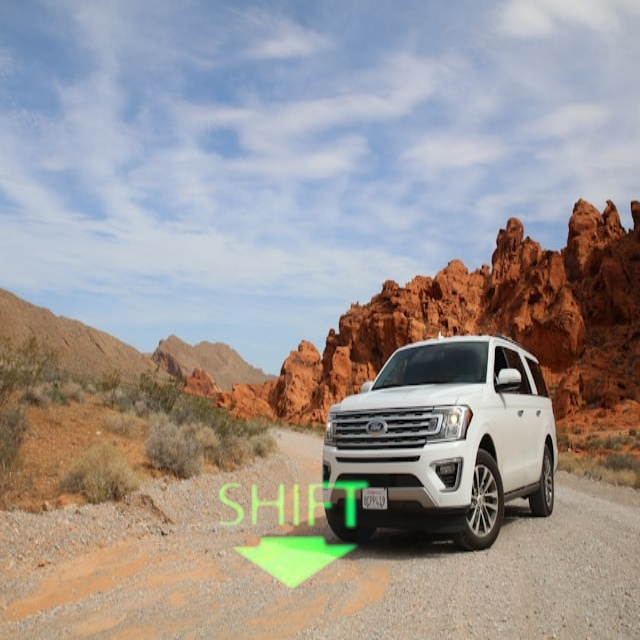symbol: (190, 431, 389, 630)
